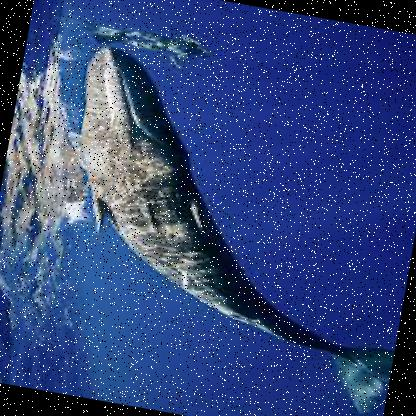sperm_whale: (29, 39, 415, 415)
